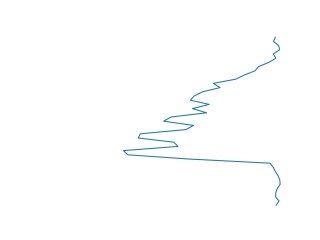proximalDeepseaFan: (120, 36, 285, 208)
